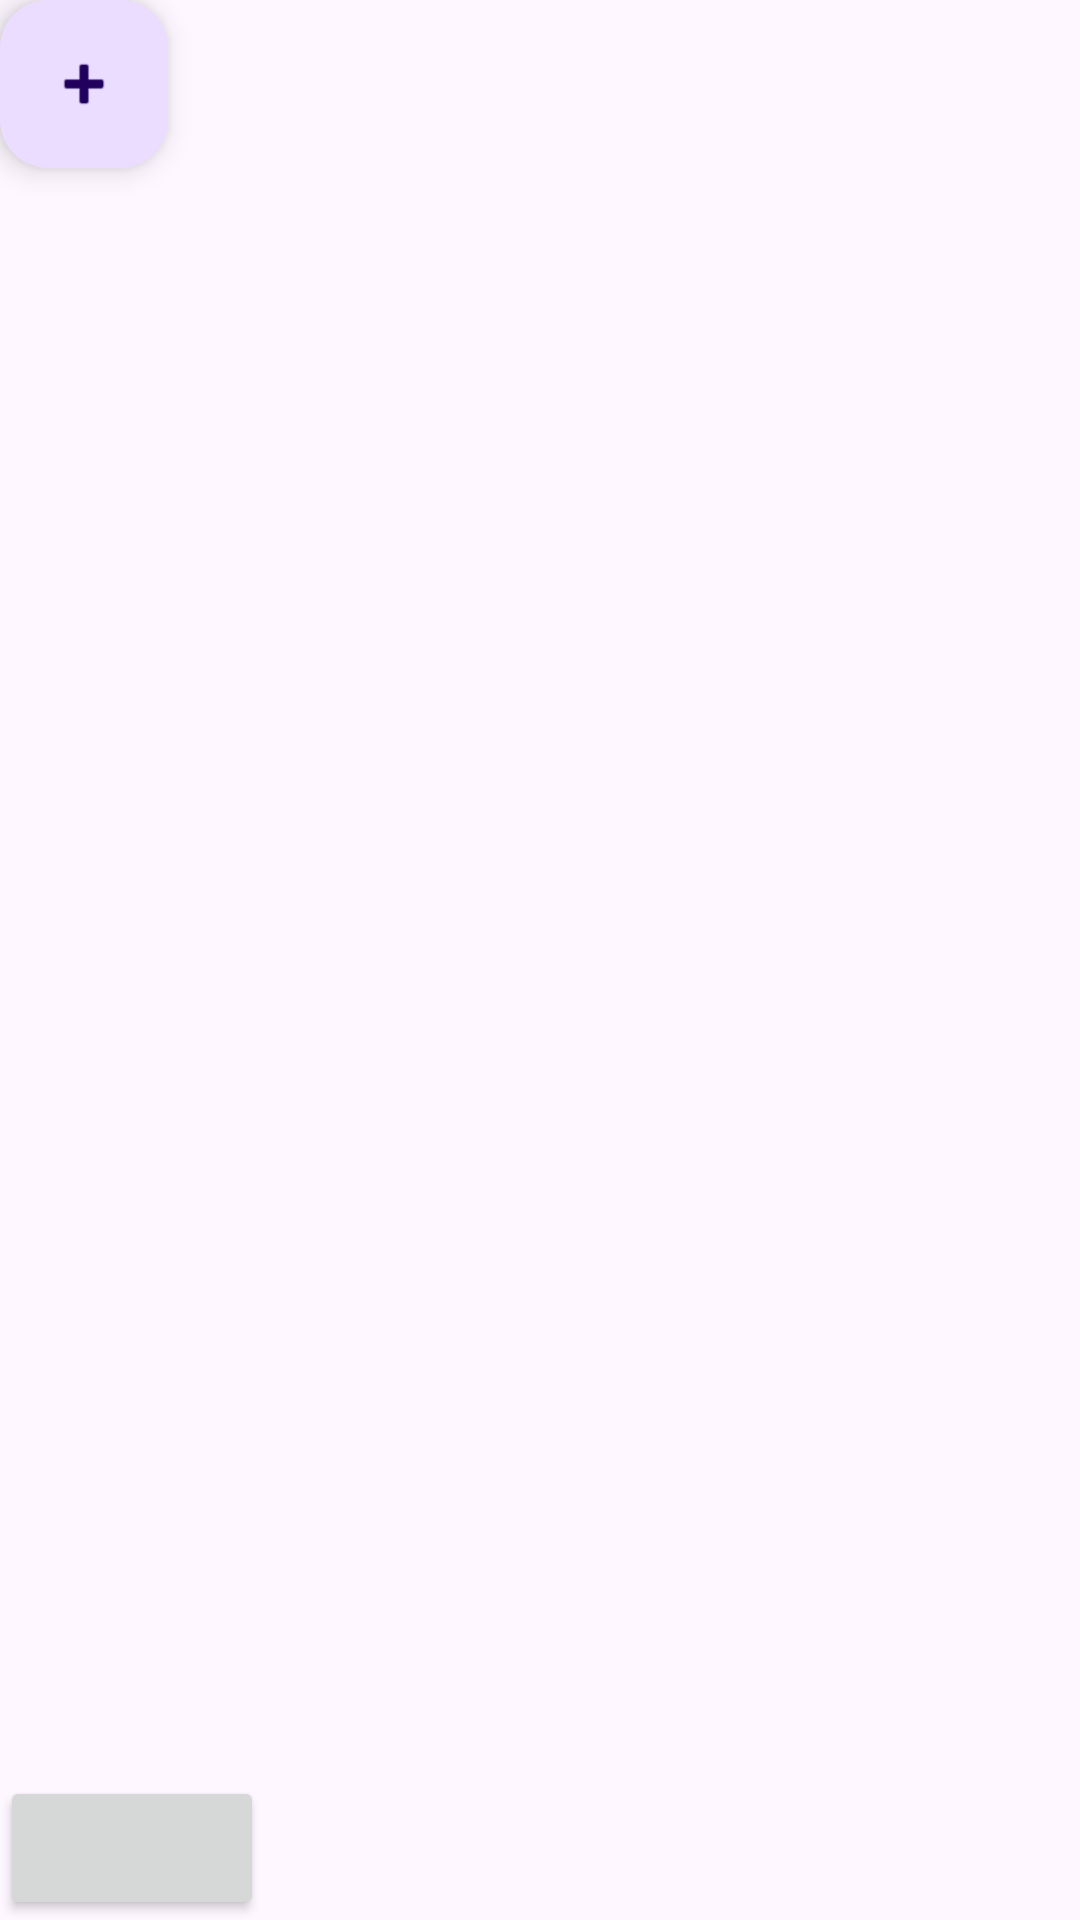

Icon bounding boxes for this 1080w x 1920h phone screenshot, format (x1, y1, x2, y2):
Add New Event: (0, 0, 168, 168)
